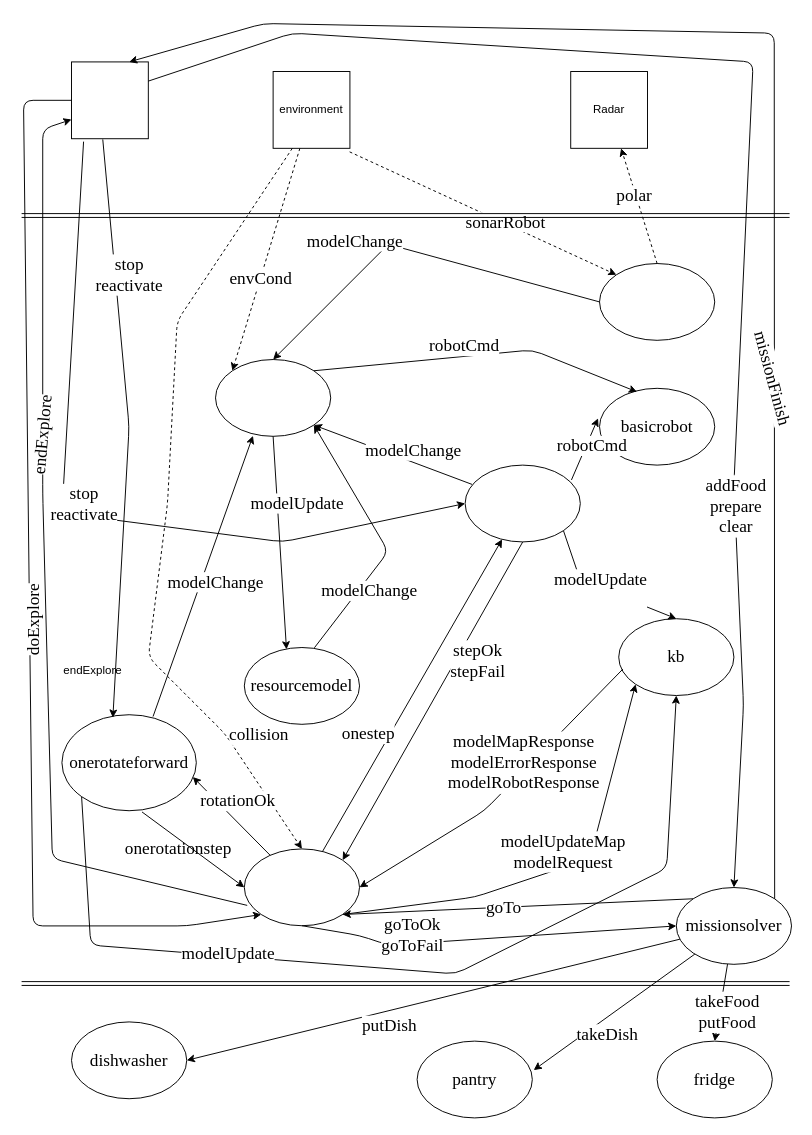
This 812x1135 diagram has some shape labels left out. The centre of each missing label's shape, as x and y in pixels:
explorer: (301,887)
frontend: (109,100)
mindrobot: (273,397)
onecellforward: (522,503)
sonarhandler: (657,301)
